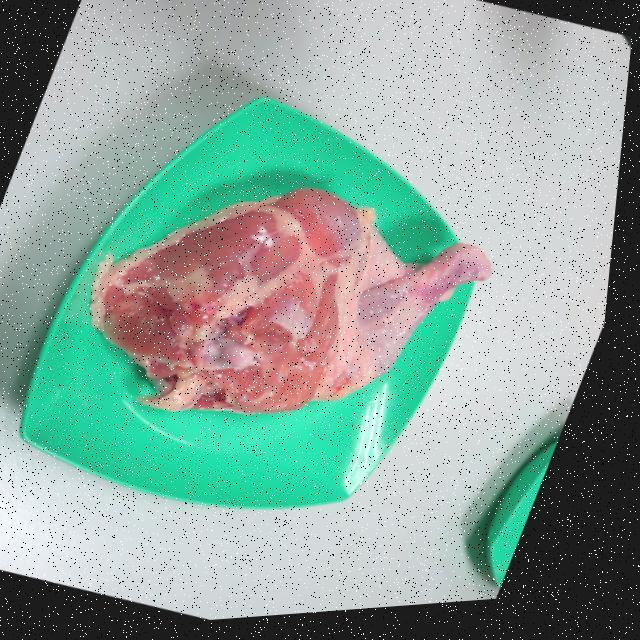quater: (99, 173, 512, 412)
